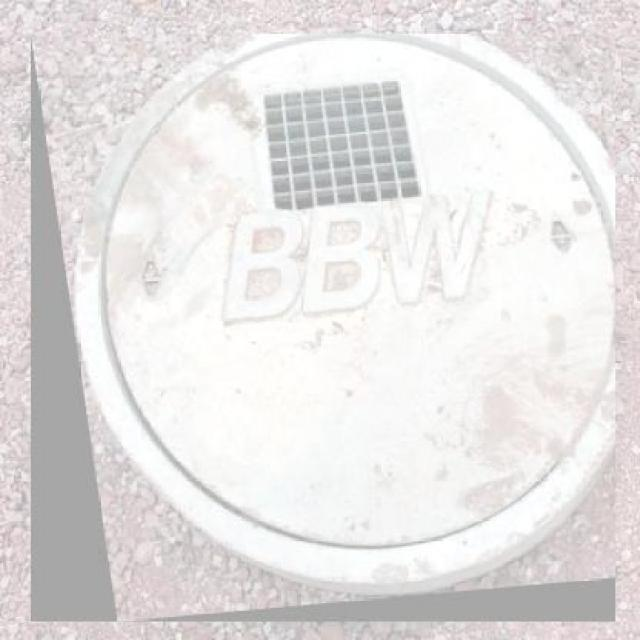Manhole: (31, 35, 616, 622)
